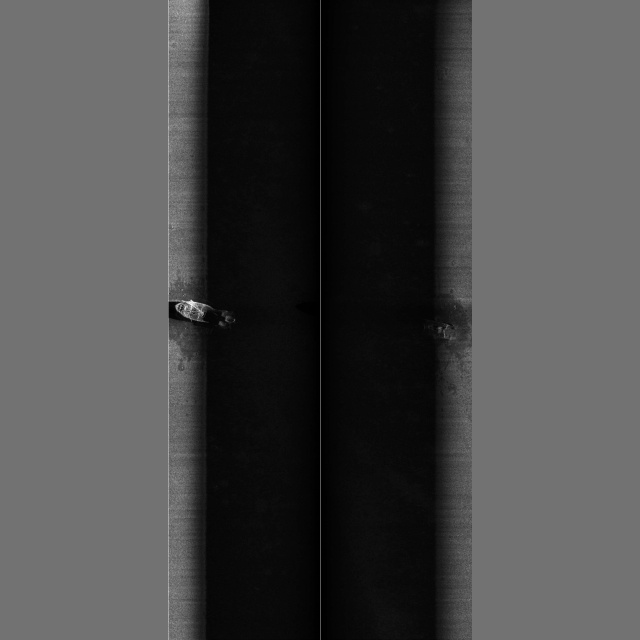Shipwreck: (175, 299, 458, 340)
